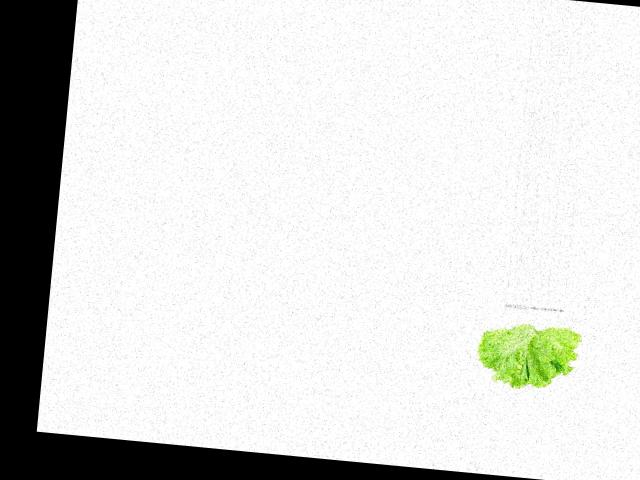lettuce: (472, 306, 584, 395)
